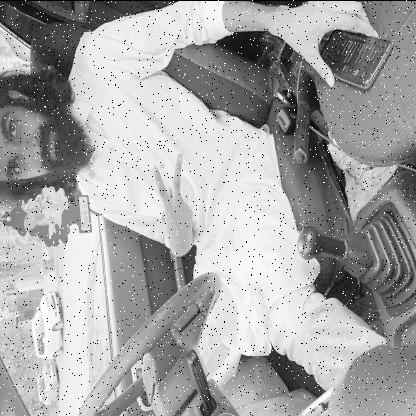no_seatbelt: (0, 89, 214, 258)
